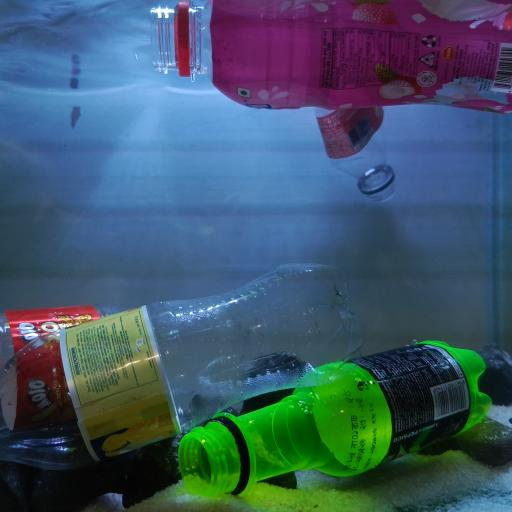plastic_bottle: (0, 261, 367, 472), (176, 338, 492, 500), (150, 0, 512, 116), (0, 302, 132, 432), (314, 106, 397, 204)
